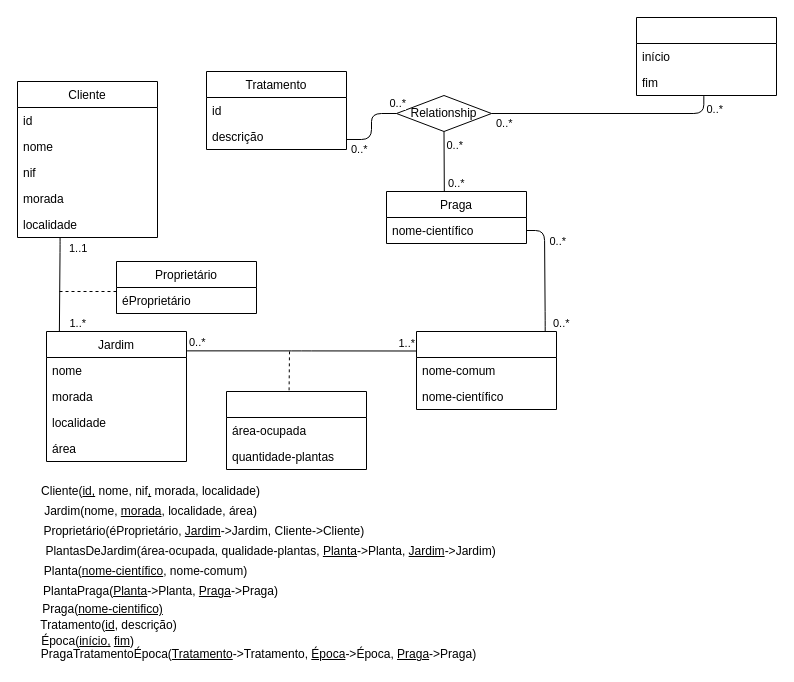
This 794x682 diagram has some shape labels left out. The shapes that lost their labels are listed below. From the top down, each one's box as (x1, y1, x2, y2) in pixels, then its label:
(636, 16, 776, 96): Época
(416, 330, 556, 410): Planta
(226, 390, 366, 470): PlantaDeJardim
